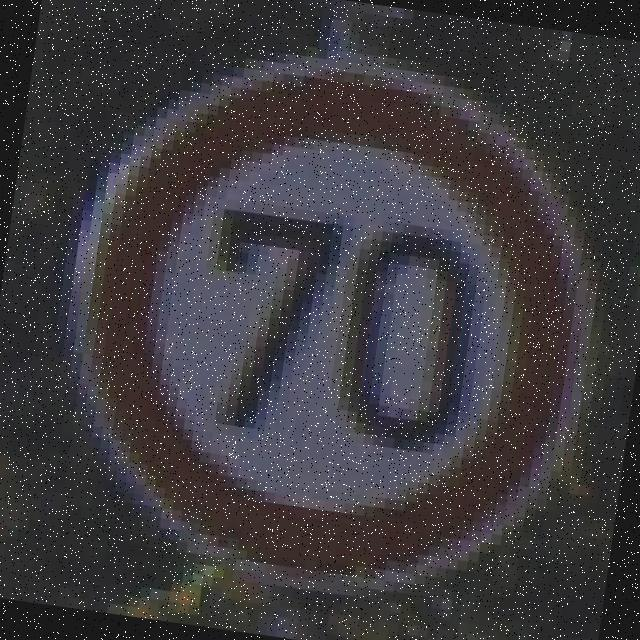Ograniczenie predkosci do 70: (49, 32, 622, 620)
